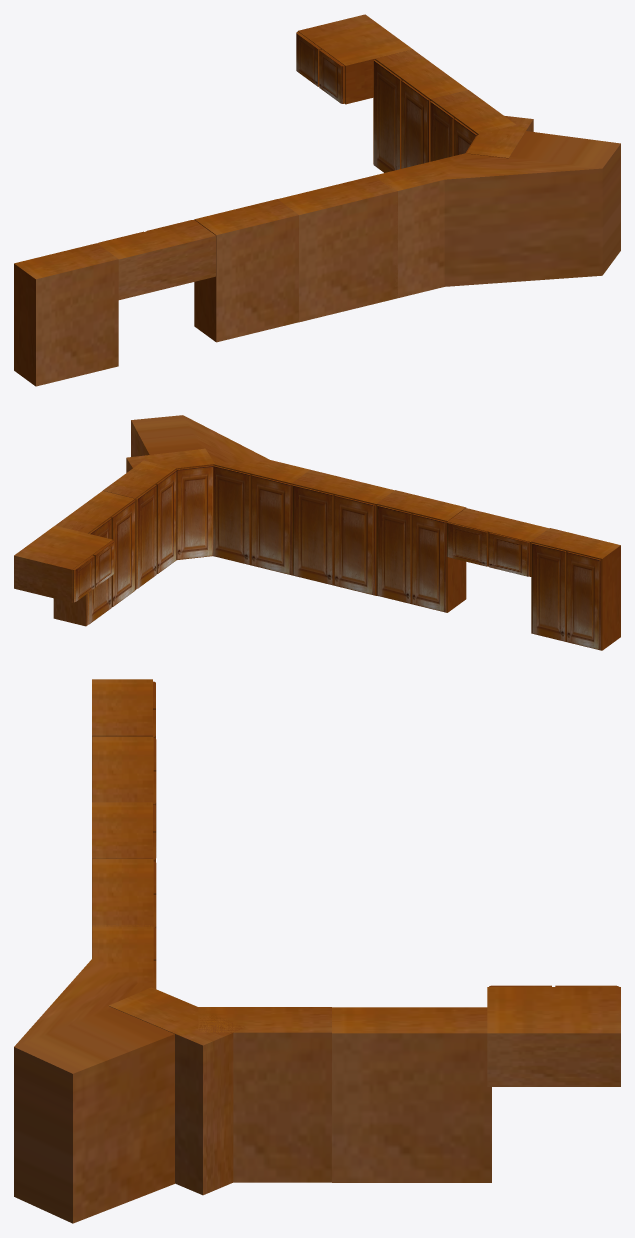
File: upperstorage.fbx
The picture shows the model from 3 angles, top to bottom: view 1: azimuth 30°, elevation 25°; view 2: azimuth 150°, elevation 25°; view 3: azimuth 270°, elevation 25°; orthographic projection. The views are drawn at different scales.
Visible parts, largest first — view 1: Cube.030, Cube.027, Cube.028, Cube.026, Cube.033, Cube.034, Cube.029, Cube.031, Cube.032; view 2: Cube.030, Cube.027, Cube.028, Cube.026, Cube.034, Cube.033, Cube.031, Cube.032, Cube.029; view 3: Cube.030, Cube.033, Cube.031, Cube.034, Cube.032, Cube.028, Cube.029, Cube.027, Cube.026.
Boxes of the visible parts, box(x1,y1,x2,y2) form: Cube.030: box(374, 131, 620, 297); Cube.027: box(14, 243, 118, 386); Cube.028: box(277, 175, 397, 322); Cube.026: box(194, 199, 298, 342); Cube.033: box(373, 49, 467, 172); Cube.034: box(296, 14, 412, 104); Cube.029: box(97, 220, 215, 299); Cube.031: box(430, 90, 515, 161); Cube.032: box(465, 115, 533, 158); Cube.030: box(131, 415, 309, 575); Cube.027: box(531, 528, 620, 650); Cube.028: box(291, 469, 394, 595); Cube.026: box(376, 490, 466, 612); Cube.034: box(14, 525, 114, 602); Cube.033: box(53, 491, 135, 626); Cube.031: box(103, 460, 176, 589); Cube.032: box(126, 448, 214, 560); Cube.029: box(446, 508, 548, 576); Cube.030: box(14, 925, 174, 1223); Cube.033: box(332, 1007, 491, 1182); Cube.031: box(198, 1007, 331, 1182); Cube.034: box(487, 985, 620, 1086); Cube.032: box(108, 987, 245, 1195); Cube.028: box(92, 859, 156, 928); Cube.029: box(92, 736, 156, 857); Cube.027: box(92, 679, 155, 801); Cube.026: box(92, 802, 155, 958).
Size of the model in its own units: 418 by 74.18 by 272.
Materials: 1 (1 with a texture image).
